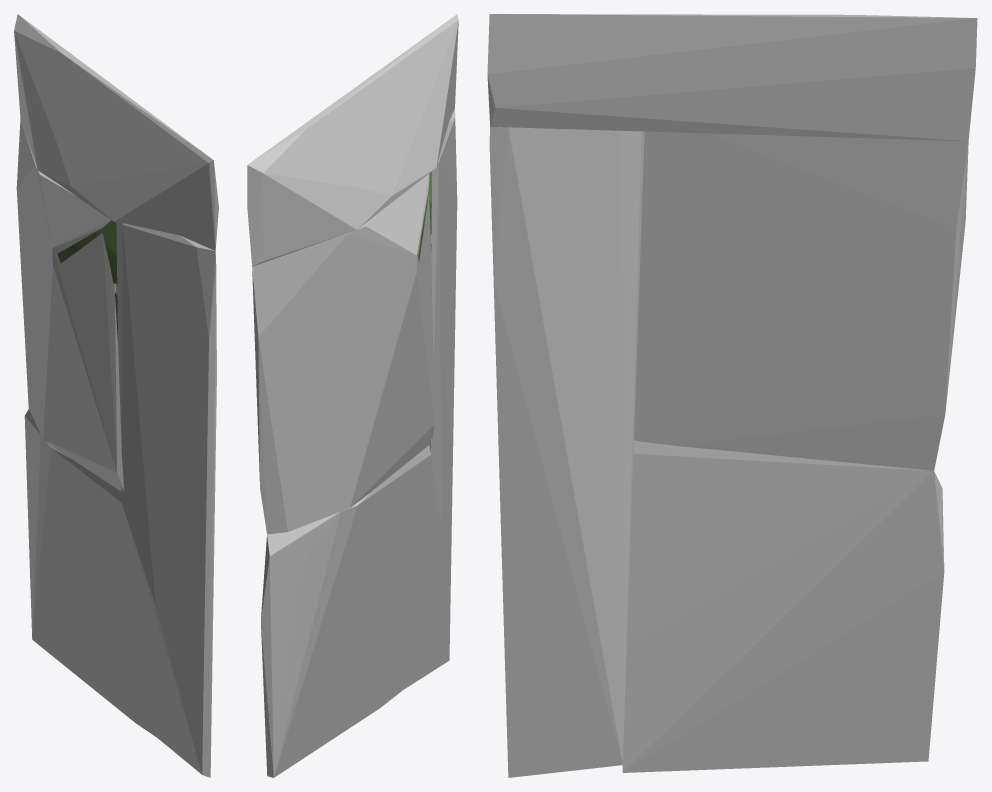
The model's file is SM_Env_Leaves_Line_06.fbx.
3 renders of one model, left to right at view 1: azimuth 30°, elevation 25°; view 2: azimuth 150°, elevation 25°; view 3: azimuth 270°, elevation 25°, orthographic. The views are drawn at different scales.
Visible parts, largest first — view 1: SM_Env_Leaves_Line_06_ConvexHulls, SM_Env_Leaves_Line_06; view 2: SM_Env_Leaves_Line_06_ConvexHulls; view 3: SM_Env_Leaves_Line_06_ConvexHulls.
Part boxes in pixels (x1=…): SM_Env_Leaves_Line_06_ConvexHulls: x1=14, y1=14, x2=218, y2=777; SM_Env_Leaves_Line_06: x1=57, y1=220, x2=117, y2=339; SM_Env_Leaves_Line_06_ConvexHulls: x1=247, y1=14, x2=458, y2=777; SM_Env_Leaves_Line_06_ConvexHulls: x1=487, y1=14, x2=977, y2=777.
Bounding box in the file's own units: 7.61 × 40.09 × 68.72.
Materials: 2 (1 with a texture image).
